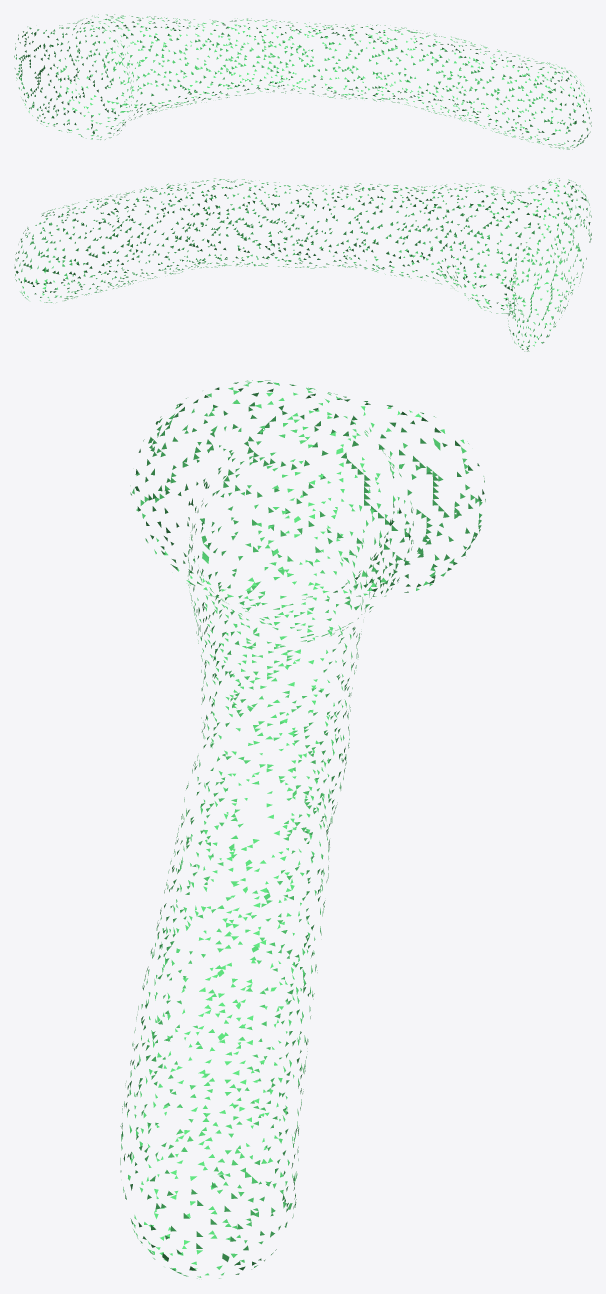
Rendered from morph_020.glb.
The picture shows the model from 3 angles, top to bottom: view 1: azimuth 30°, elevation 25°; view 2: azimuth 150°, elevation 25°; view 3: azimuth 270°, elevation 25°; orthographic projection. The views are drawn at different scales.
Size of the model in its own units: 125 by 53.08 by 39.29.
